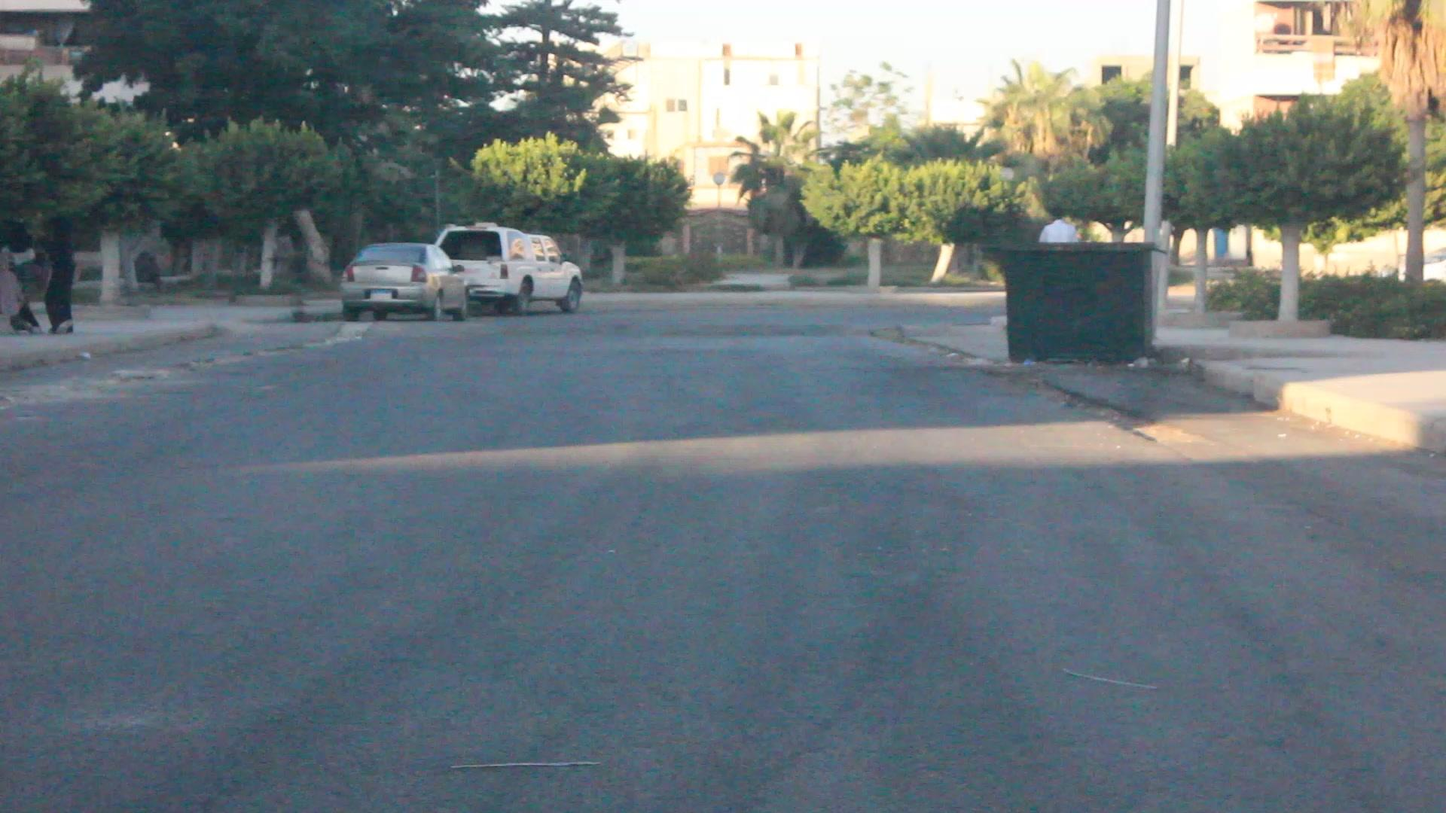Bump: (324, 318, 891, 337)
